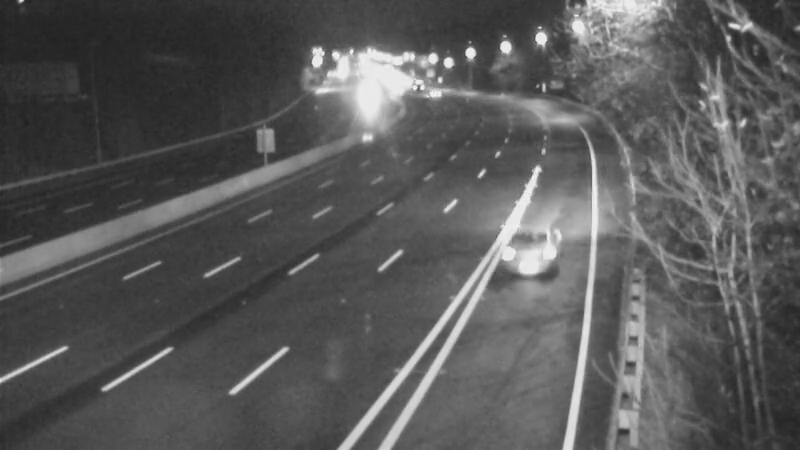vehicle: (502, 212, 582, 292), (409, 68, 459, 118)
